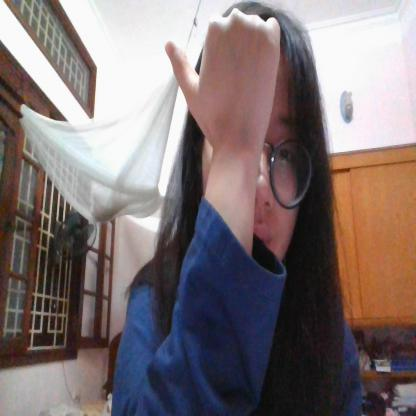right: (165, 7, 283, 151)
